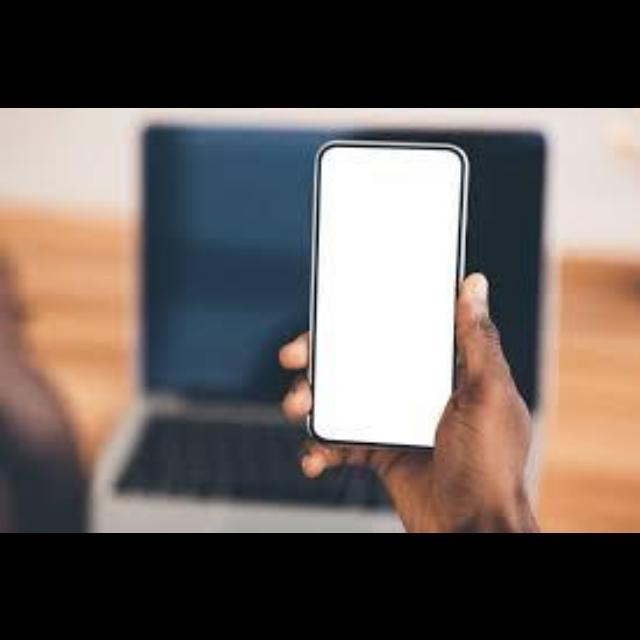PhoneUse: (314, 138, 468, 448)
